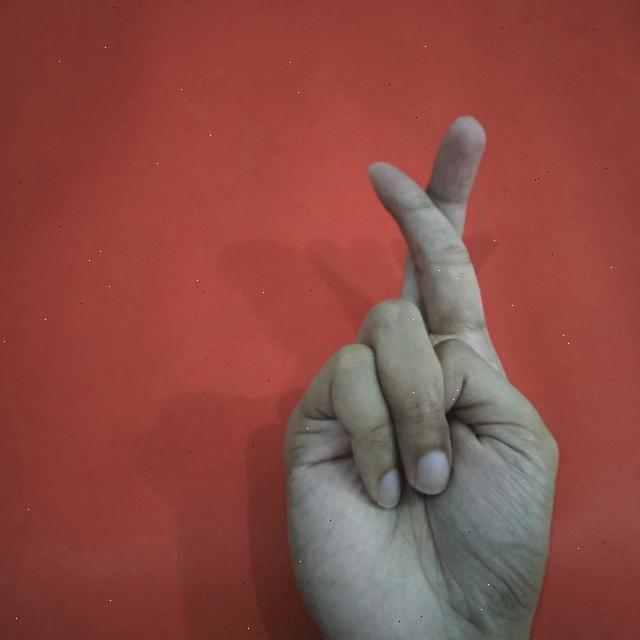R: (279, 107, 566, 640)
